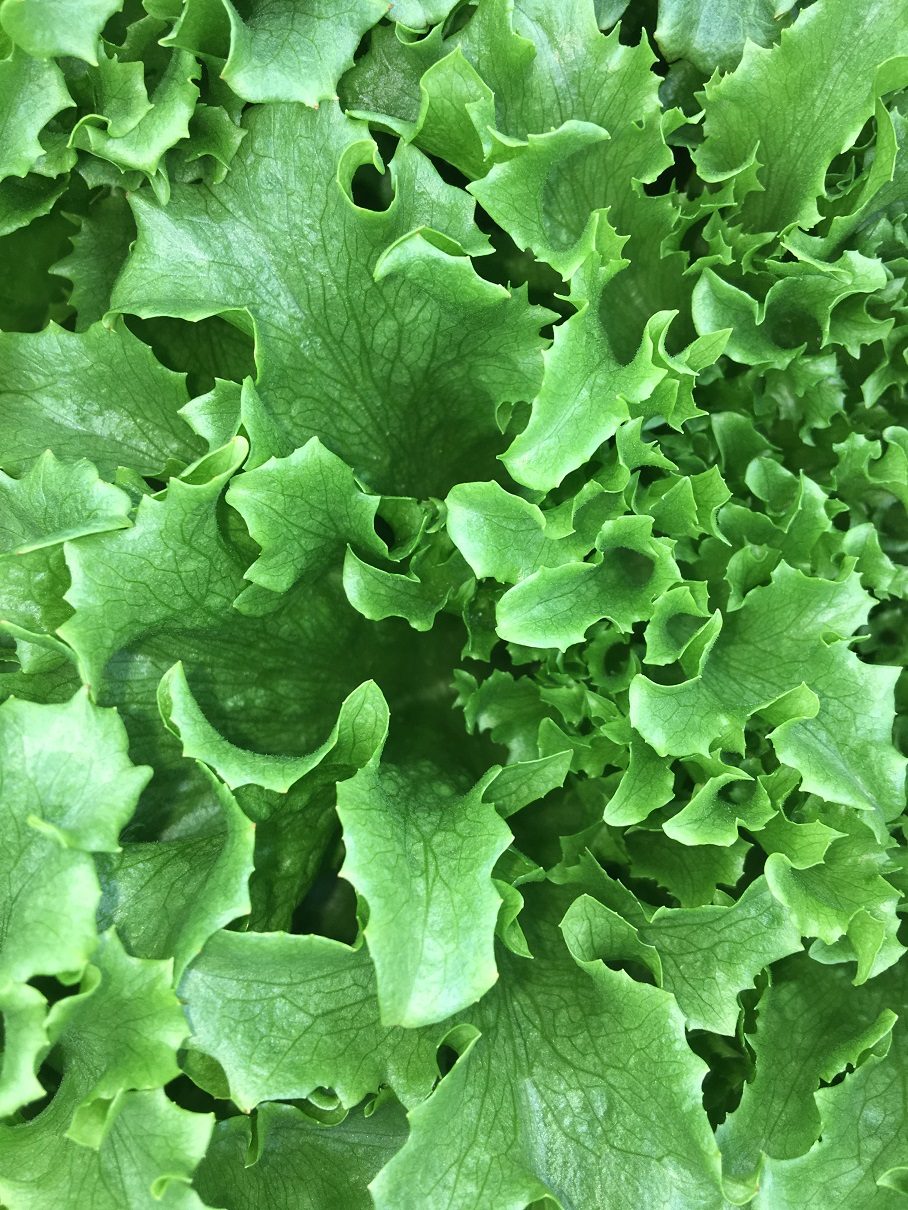tipburn: (297, 90, 336, 128), (740, 1164, 777, 1202), (230, 1093, 265, 1132), (234, 808, 270, 845), (757, 6, 793, 40), (95, 309, 128, 344), (67, 672, 102, 702), (371, 1, 401, 25), (117, 184, 144, 204)
